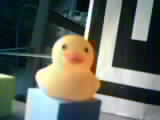duck: (34, 23, 105, 112)
